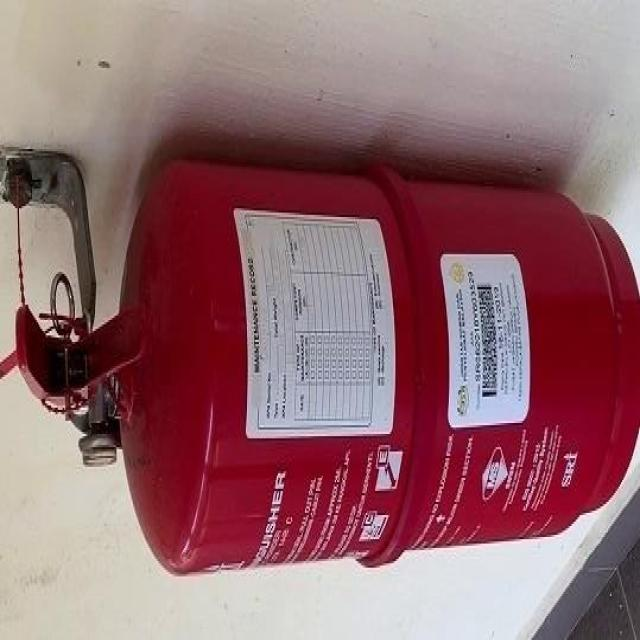fire_extinguisher: (12, 148, 639, 582)
